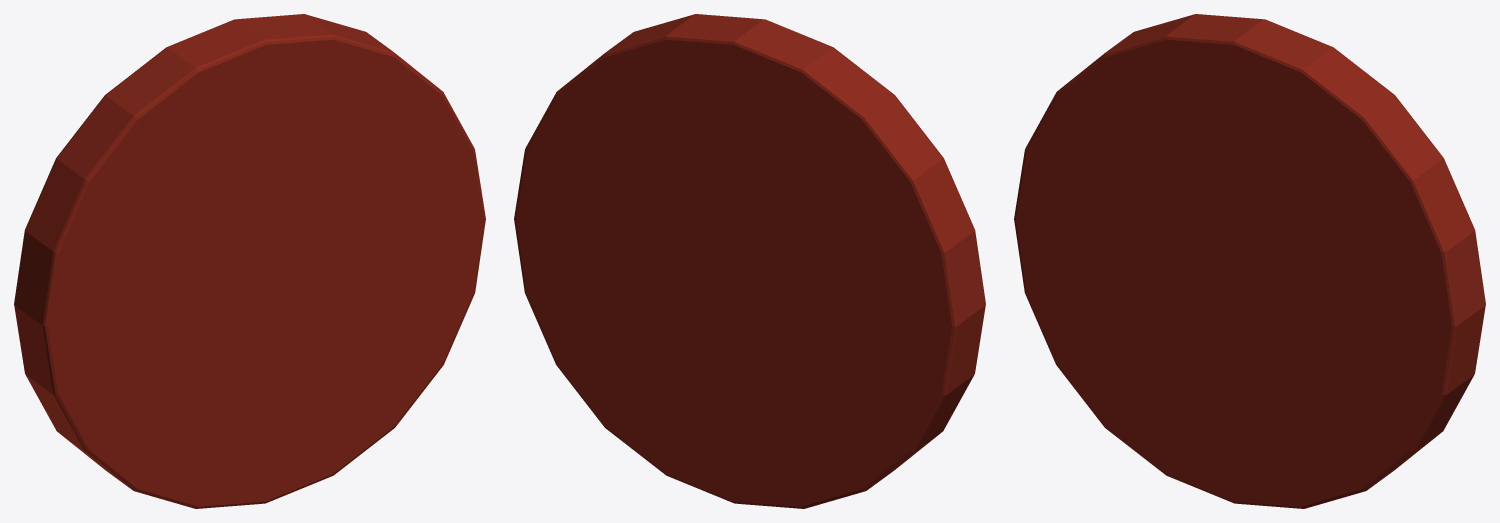
Rendered from aspis_reinforced_elite_LOD2.glb.
3 views of the same model, side by side, from view 1: azimuth 30°, elevation 25°; view 2: azimuth 150°, elevation 25°; view 3: azimuth 330°, elevation 25° (orthographic).
Parts seen in each view (by area): view 1: LOD2_Aspis; view 2: LOD2_Aspis; view 3: LOD2_Aspis.
Part boxes in pixels (x1,y1,x2,y2): LOD2_Aspis: [14, 14, 485, 508]; LOD2_Aspis: [514, 14, 985, 508]; LOD2_Aspis: [1014, 14, 1485, 508].
Bounding box in the file's own units: 1.04 × 1.04 × 0.13.
